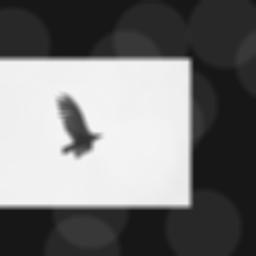Crow: (56, 92, 104, 158)
